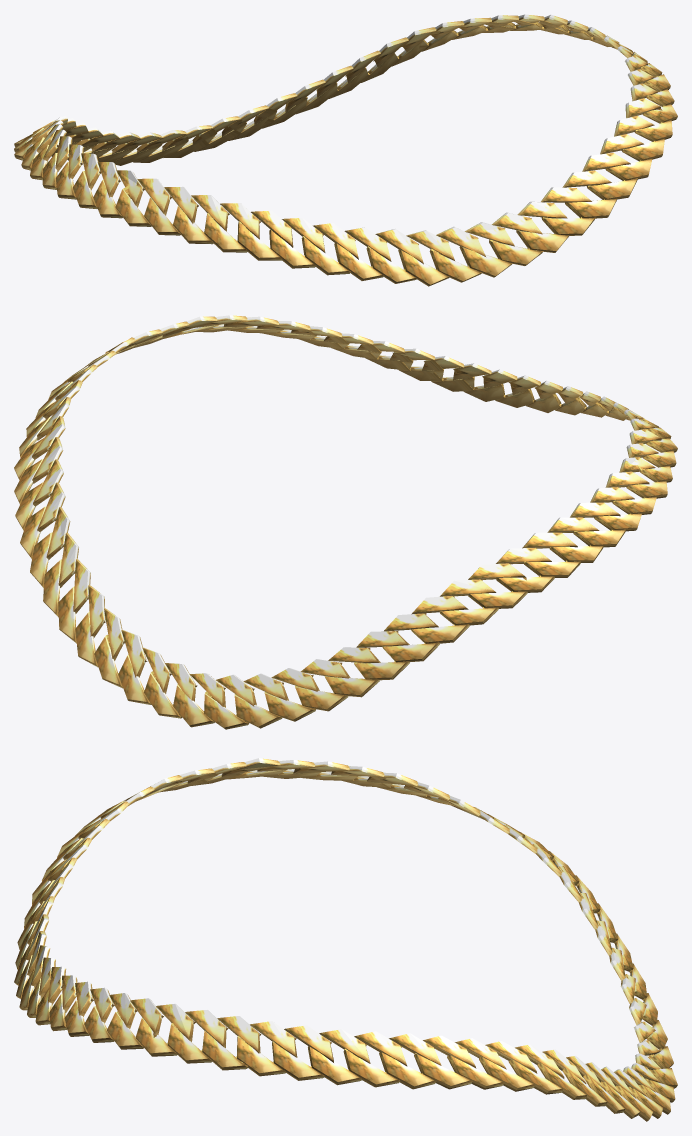
The picture shows the model from 3 angles, top to bottom: view 1: azimuth 30°, elevation 25°; view 2: azimuth 150°, elevation 25°; view 3: azimuth 270°, elevation 25°; orthographic projection. The views are drawn at different scales.
Parts seen in each view (by area): view 1: geometry_0; view 2: geometry_0; view 3: geometry_0.
Boxes of the visible parts, left/top/right/bottom form: geometry_0: left=14, top=14, right=677, bottom=286; geometry_0: left=14, top=315, right=677, bottom=729; geometry_0: left=14, top=758, right=677, bottom=1121.
Size of the model in its own units: 1.19 by 0.3668 by 1.09.
1 material, 1 textured.
